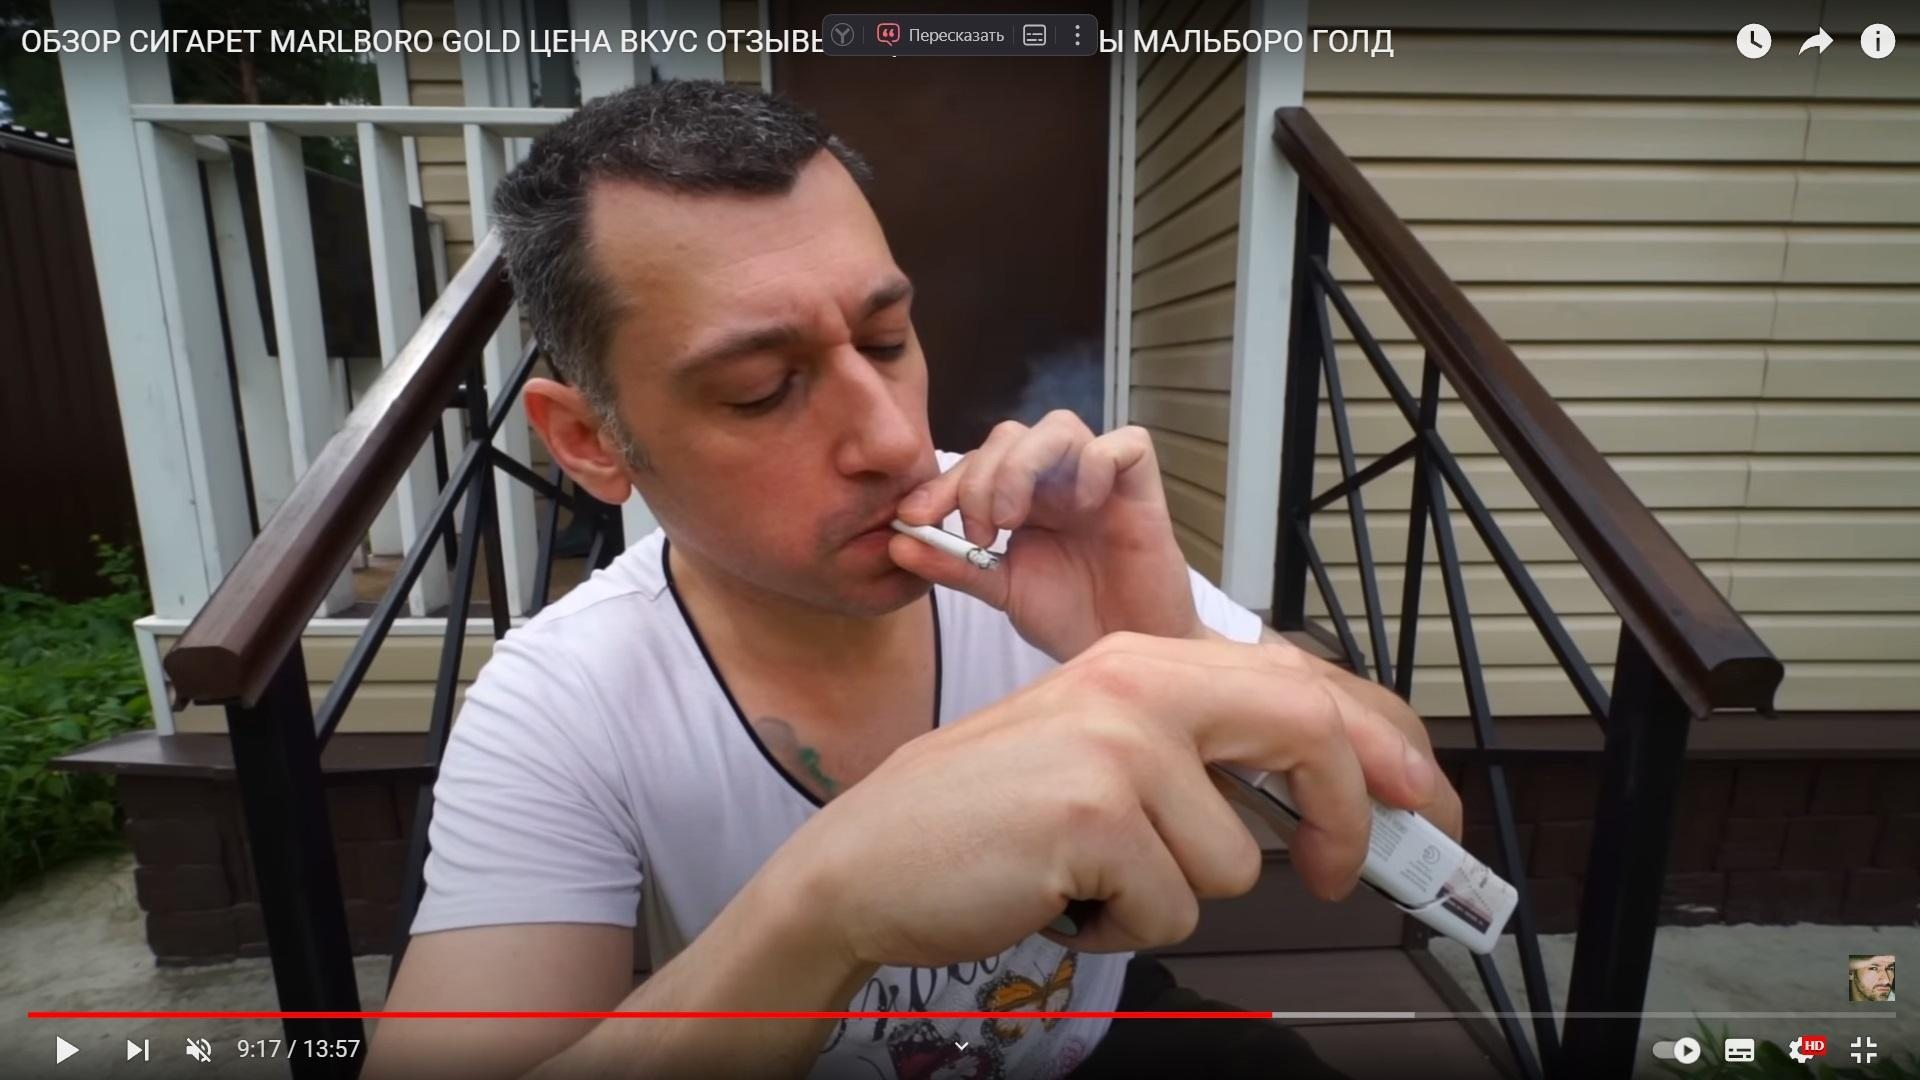cigarette: (889, 517, 1000, 570)
